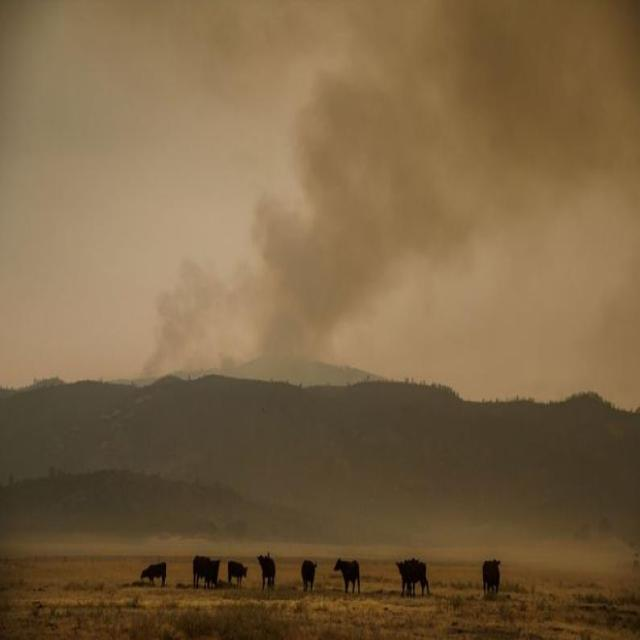Smoke: (145, 39, 611, 369)
